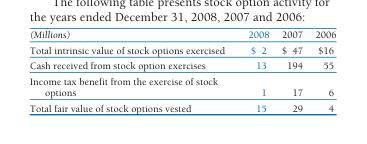table: (28, 28, 335, 113)
table column: (28, 28, 235, 113), (235, 28, 274, 113), (274, 28, 308, 113), (308, 28, 335, 113)
table column header: (28, 28, 335, 42)
table row: (28, 72, 335, 99), (28, 42, 335, 57), (28, 57, 335, 72), (28, 28, 335, 42), (28, 99, 335, 113)
